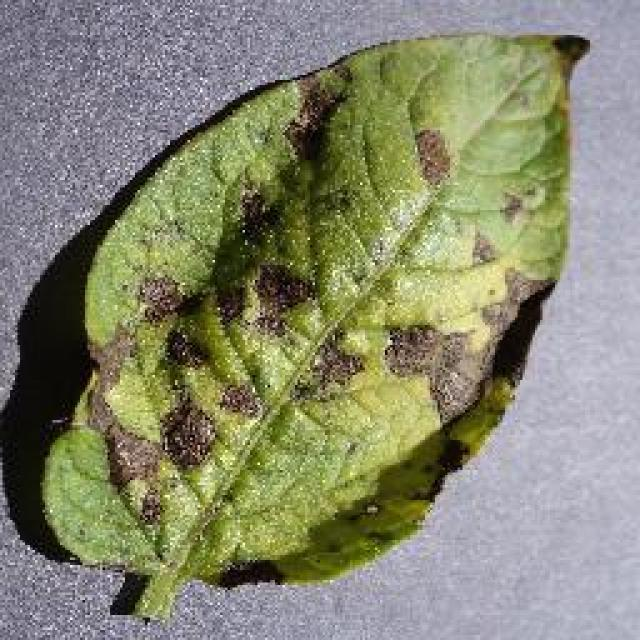Potato___Early_blight: (28, 12, 602, 638)
